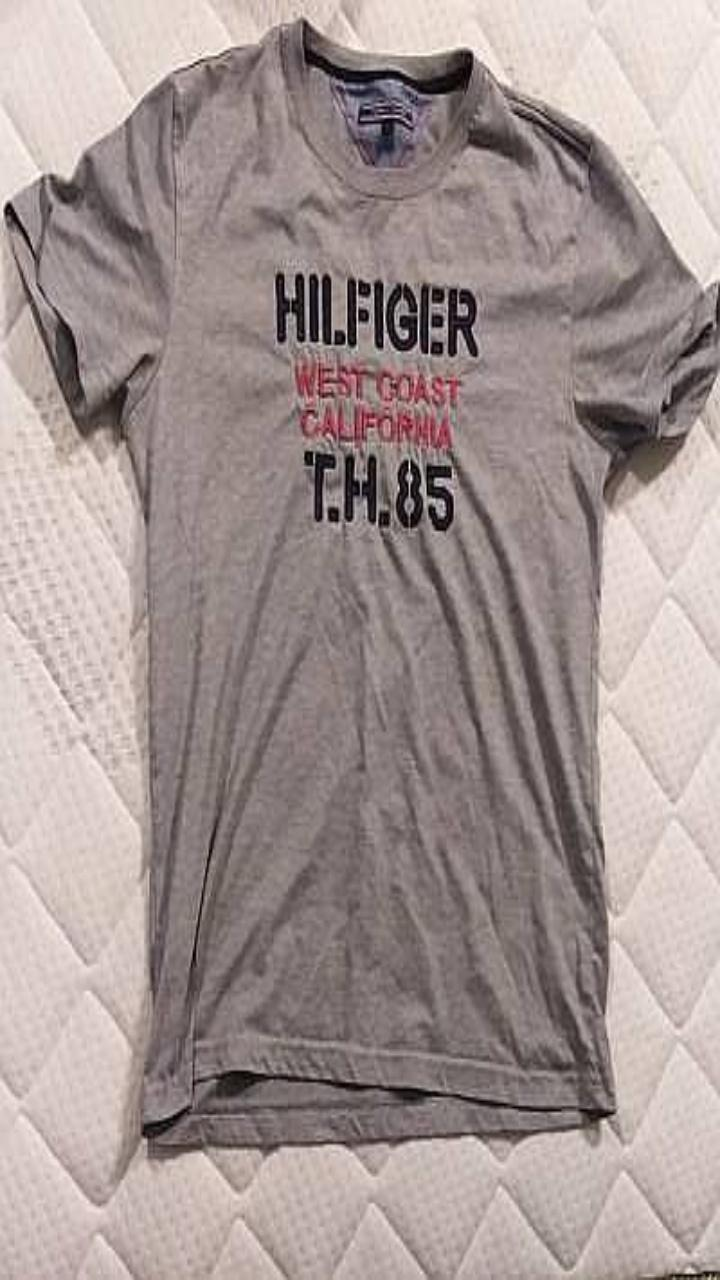T-Shirt: (4, 16, 719, 1145)
